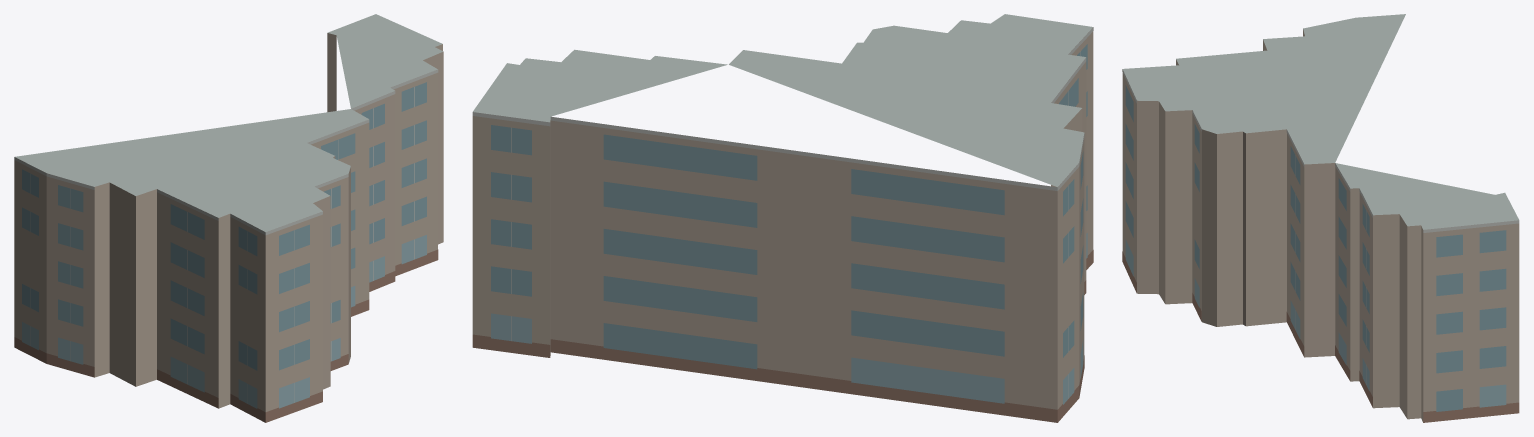
Rendered from survey-upis-32580236.glb.
3 renders of one model, left to right at view 1: azimuth 30°, elevation 25°; view 2: azimuth 150°, elevation 25°; view 3: azimuth 270°, elevation 25°, orthographic. The views are drawn at different scales.
Parts seen in each view (by area): view 1: survey-upis-32580236.tmp; view 2: survey-upis-32580236.tmp; view 3: survey-upis-32580236.tmp.
Boxes of the visible parts, left/top/right/bottom form: survey-upis-32580236.tmp: left=14, top=14, right=443, bottom=422; survey-upis-32580236.tmp: left=472, top=14, right=1093, bottom=422; survey-upis-32580236.tmp: left=1122, top=14, right=1519, bottom=422.
Size of the model in its own units: 35.28 by 14.7 by 27.41.
